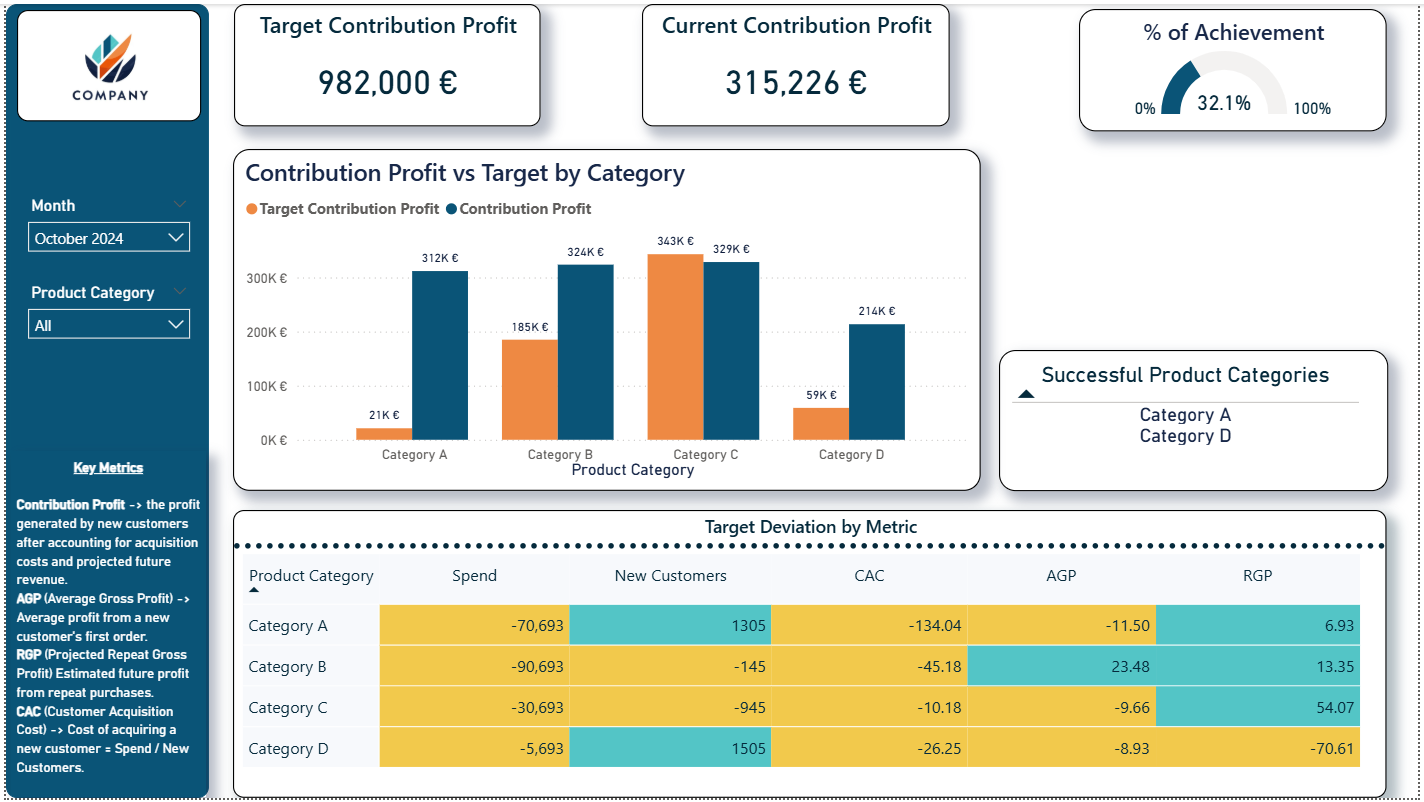

The dashboard page shown, as its layout file describes it:
{"tool":"powerbi","page":{"name":"Product Category Overview","canvas":[1280,720],"ordinal":0},"visuals":[{"type":"shape","box":[0,0,184.1,720.3],"z":0},{"type":"card","title":"Current Contribution Profit","fields":{"Values":["Orders.Contribution Profit"]},"box":[576.7,0,278.9,111.1],"z":1000},{"type":"card","title":"Target Contribution Profit","fields":{"Values":["Orders.Target Contribution Profit"]},"box":[206.7,0,278,111.1],"z":2000},{"type":"gauge","title":"% of Achievement","fields":{"Y":["Orders.Gauge"]},"box":[973.3,4.4,278.9,111.1],"z":3000},{"type":"clusteredColumnChart","title":"Contribution Profit vs Target by Category","fields":{"Category":["Products.Product_Category"],"Y":["Orders.Target Contribution Profit","Orders.Contribution Profit"]},"box":[206.2,131.2,677.5,310],"z":4000},{"type":"tableEx","title":"Underperforming Categories","fields":{"Values":["Products.Product_Category"]},"box":[900,313.8,352.5,127.5],"z":6000},{"type":"textbox","box":[4.4,405.6,176.7,314.4],"z":7000},{"type":"slicer","fields":{"Values":["Products.Product_Category"]},"box":[10,248.8,166.7,75.9],"z":8000},{"type":"slicer","fields":{"Values":["Orders.Order_Date"]},"box":[10,169.2,166.7,70.9],"z":9000},{"type":"image","box":[10,5.7,166.7,101],"z":11000},{"type":"pivotTable","title":"Target Deviation by Metric","fields":{"Rows":["Products.Product_Category"],"Values":["Orders.Spend_FS","Orders.NewCustomers_FS","Orders.CAC_FS","Orders.AGP_FS","Orders.RGP_FS"]},"box":[206.2,458.8,1046.2,261.2],"z":12000}]}

Visuals, with their boxes in screenshot pixels (x1, y1, x2, y2), scaled from the page's 1280x720 canvas onto the 1424x802 screenshot:
shape: (x1=0, y1=0, x2=205, y2=801)
"Current Contribution Profit" card: (x1=642, y1=0, x2=952, y2=124)
"Target Contribution Profit" card: (x1=230, y1=0, x2=539, y2=124)
"% of Achievement" gauge: (x1=1083, y1=5, x2=1393, y2=129)
"Contribution Profit vs Target by Category" clusteredColumnChart: (x1=229, y1=146, x2=983, y2=491)
"Underperforming Categories" tableEx: (x1=1001, y1=350, x2=1393, y2=492)
textbox: (x1=5, y1=452, x2=201, y2=801)
slicer - Products.Product_Category: (x1=11, y1=277, x2=197, y2=362)
slicer - Orders.Order_Date: (x1=11, y1=188, x2=197, y2=267)
image: (x1=11, y1=6, x2=197, y2=119)
"Target Deviation by Metric" pivotTable: (x1=229, y1=511, x2=1393, y2=801)
